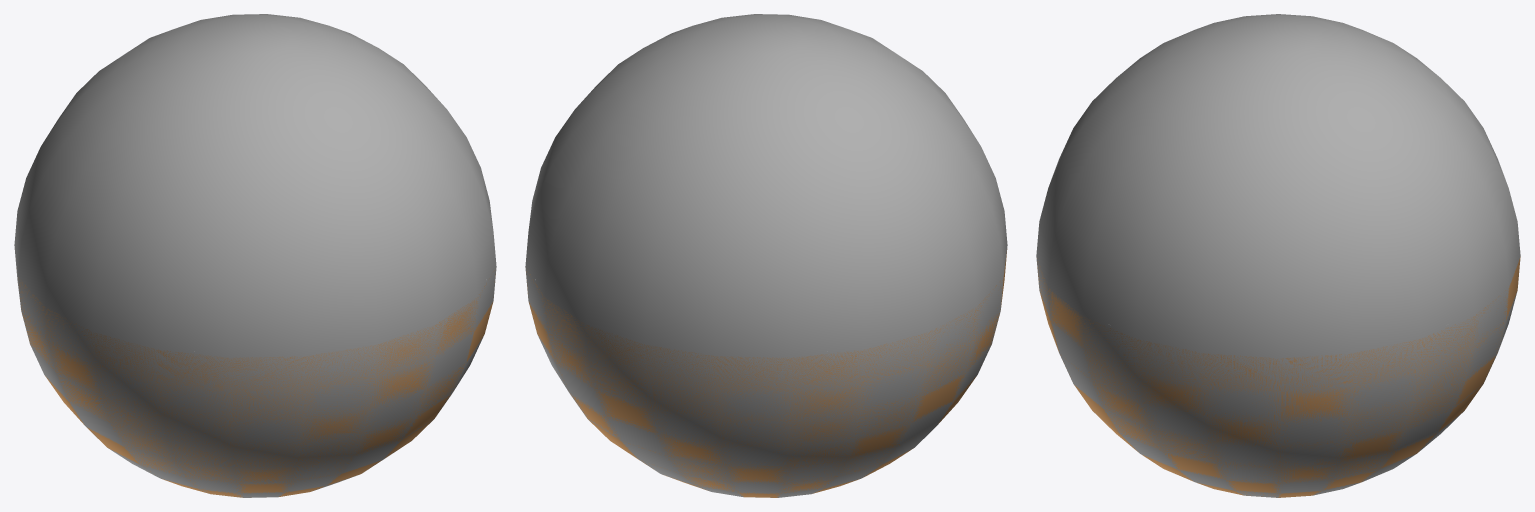
The model's file is Sky.fbx.
The picture shows the model from 3 angles, left to right: view 1: azimuth 30°, elevation 25°; view 2: azimuth 150°, elevation 25°; view 3: azimuth 270°, elevation 25°; orthographic projection.
Visible parts, largest first — view 1: Sky, Sand; view 2: Sky, Sand; view 3: Sky, Sand.
Boxes of the visible parts, x1,y1,x2,y2 form: Sky: [14, 14, 496, 497]; Sand: [18, 270, 495, 497]; Sky: [525, 14, 1007, 497]; Sand: [526, 249, 1007, 497]; Sky: [1036, 14, 1520, 497]; Sand: [1037, 256, 1520, 497].
Size of the model in its own units: 16.6 by 16.6 by 16.6.
